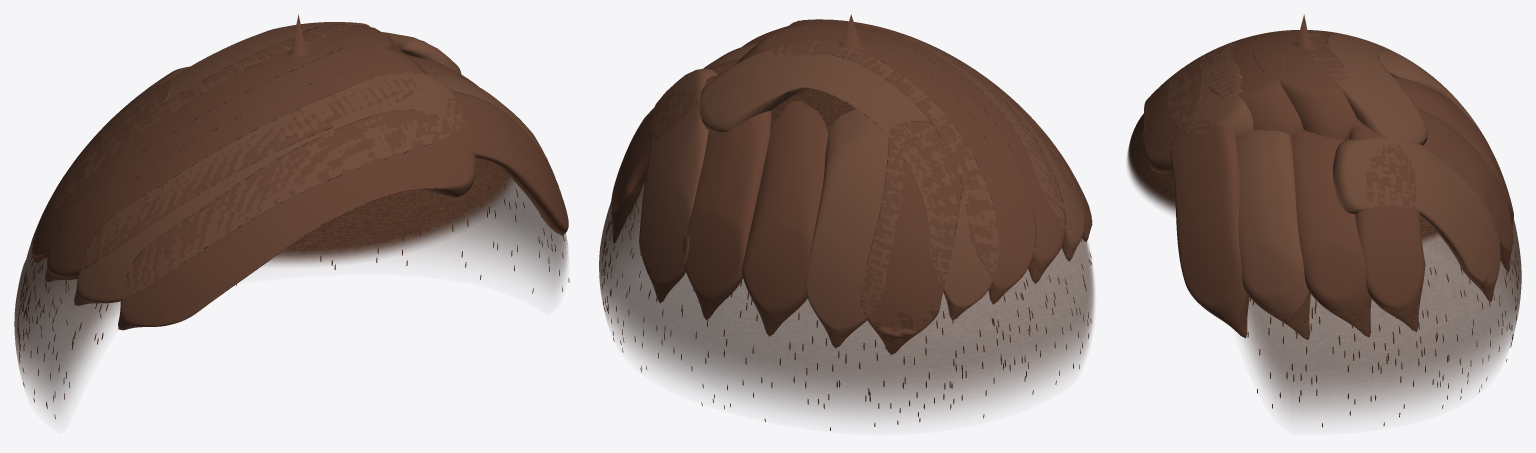
File: Masculine-taper-beanie251-hair.glb
The picture shows the model from 3 angles, left to right: view 1: azimuth 30°, elevation 25°; view 2: azimuth 150°, elevation 25°; view 3: azimuth 270°, elevation 25°; orthographic projection. The views are drawn at different scales.
Visible parts, largest first — view 1: 226 hair / Hair / main251.001, 226 hair / Hair / clipped grain251.001, 226 hair / Hair / close cut strokes251.001; view 2: 226 hair / Hair / main251.001, 226 hair / Hair / clipped grain251.001, 226 hair / Hair / close cut strokes251.001; view 3: 226 hair / Hair / main251.001, 226 hair / Hair / clipped grain251.001, 226 hair / Hair / close cut strokes251.001.
Boxes of the visible parts, x1,y1,x2,y2 form: 226 hair / Hair / main251.001: [31, 14, 568, 330]; 226 hair / Hair / clipped grain251.001: [14, 158, 567, 414]; 226 hair / Hair / close cut strokes251.001: [17, 185, 569, 418]; 226 hair / Hair / main251.001: [611, 14, 1092, 354]; 226 hair / Hair / clipped grain251.001: [599, 88, 1094, 419]; 226 hair / Hair / close cut strokes251.001: [602, 202, 1092, 430]; 226 hair / Hair / main251.001: [1143, 14, 1513, 339]; 226 hair / Hair / clipped grain251.001: [1127, 72, 1521, 418]; 226 hair / Hair / close cut strokes251.001: [1236, 252, 1518, 427].
Size of the model in its own units: 0.9812 by 0.6891 by 0.752.
Materials: 4 (1 with a texture image).
